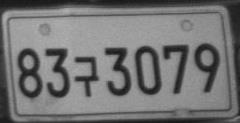0: (134, 44, 162, 96)
3: (103, 46, 132, 96), (44, 47, 71, 98)
7: (162, 43, 189, 94)
8: (16, 47, 44, 97)
9: (193, 42, 221, 93)
구: (73, 55, 100, 97)
